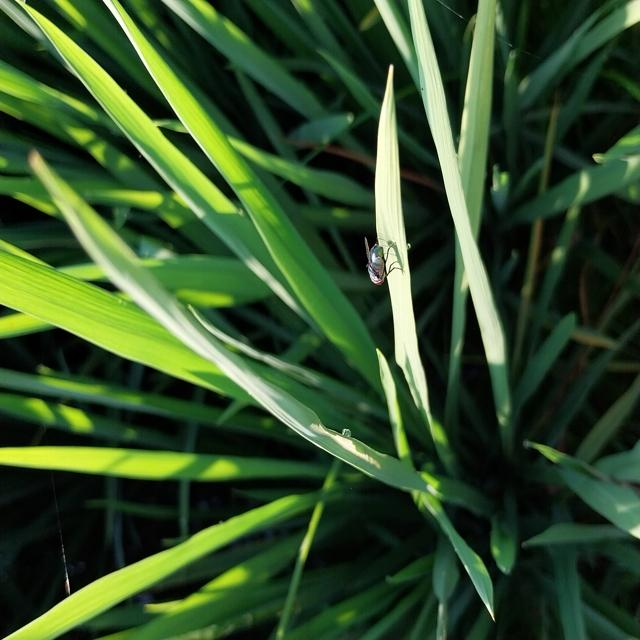Leaf scald: (352, 217, 418, 300)
